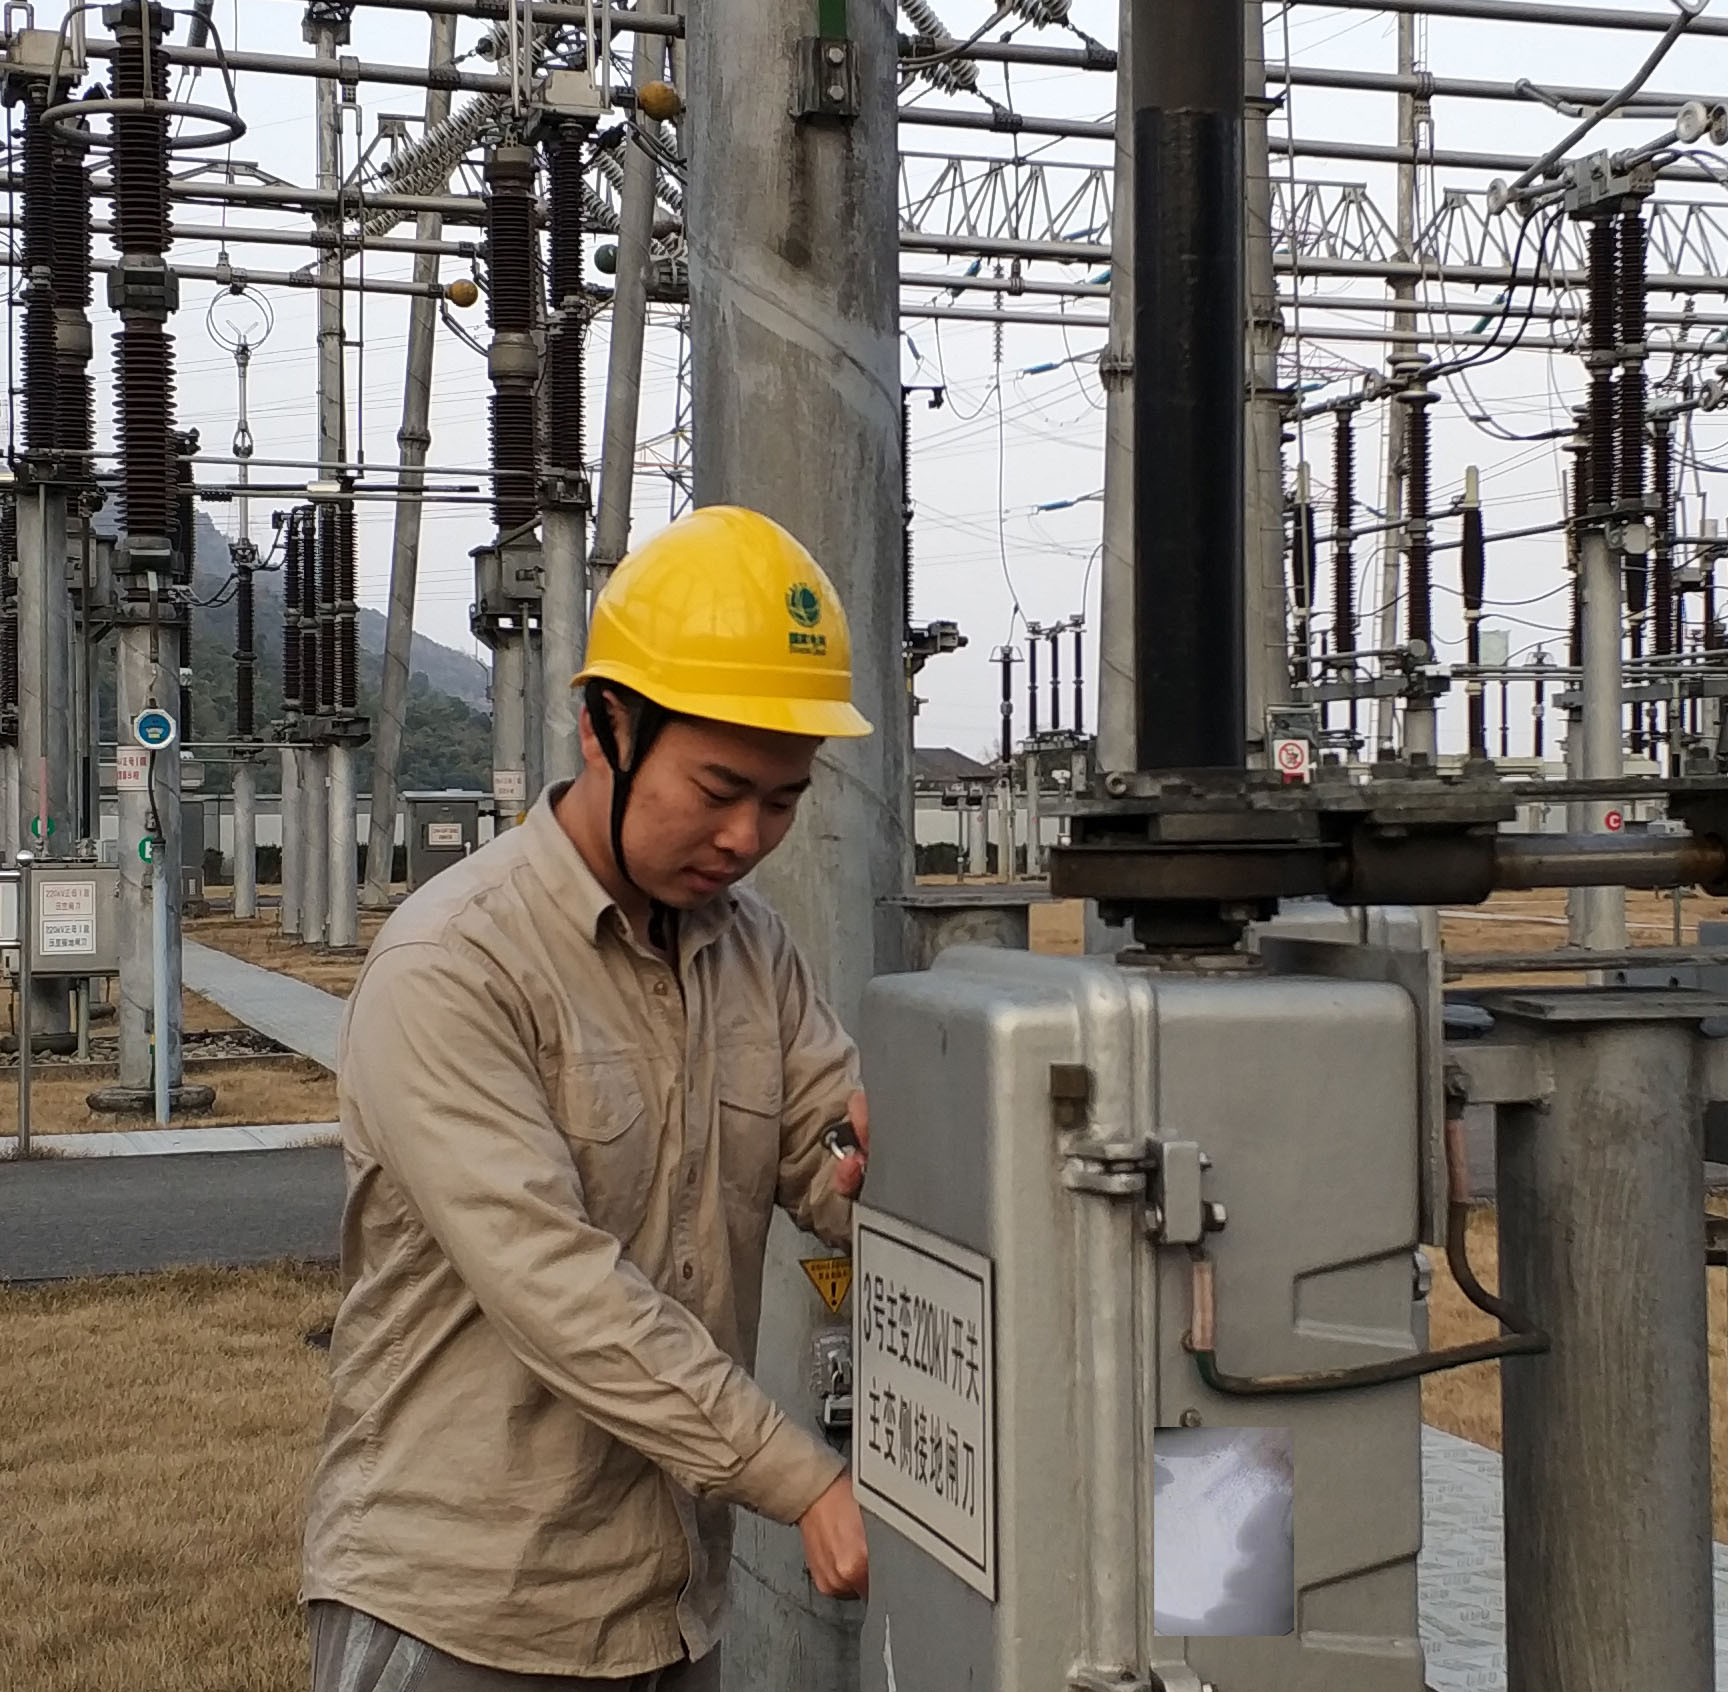oil: (1158, 1433, 1296, 1652)
